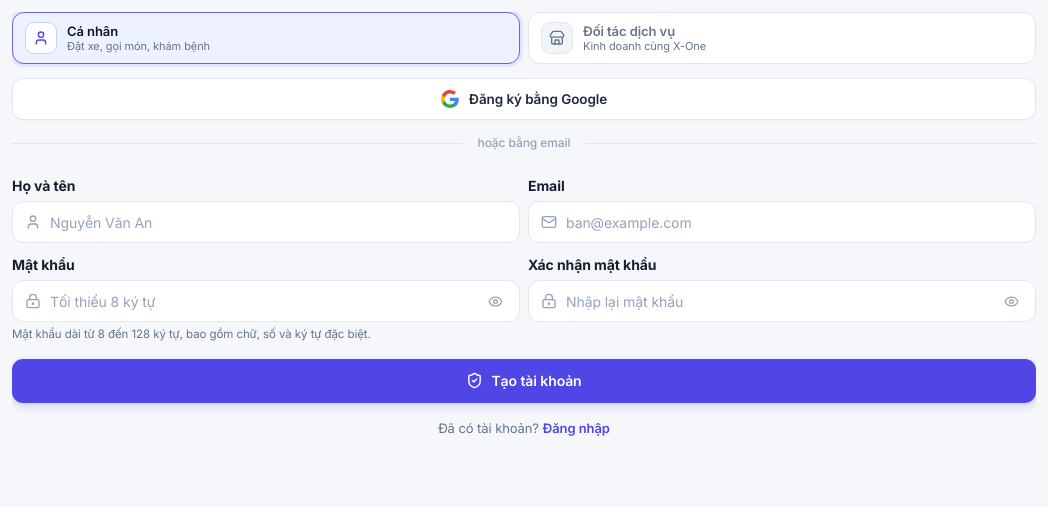
Test case: registration screen › blocks a short password before it reaches the Gateway
Type "Nguyễn An" into the field labelled "Họ và tên" at point(280, 222), box [50,202,509,242]
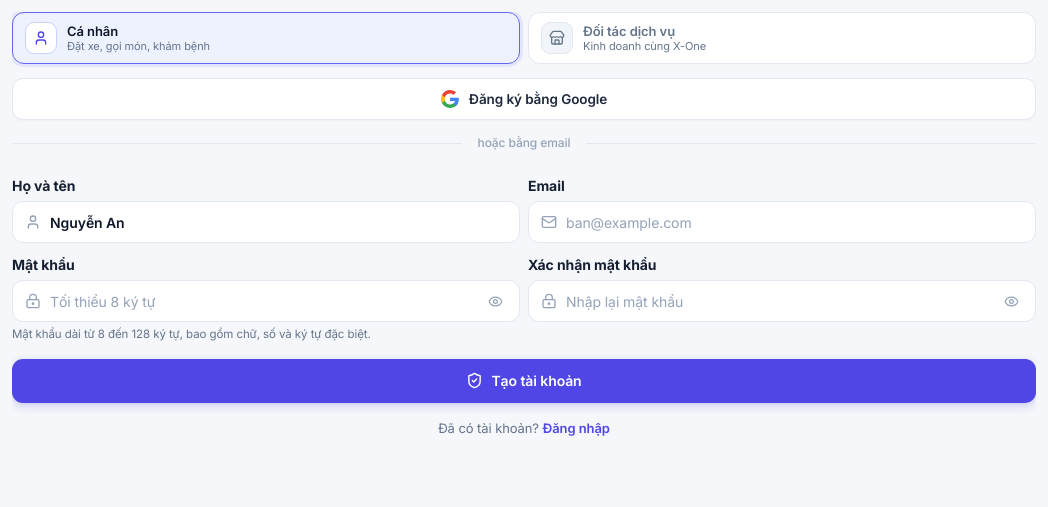
Type "an@example.test" into the field labelled "Email" at point(796, 222), box [566,202,1025,242]
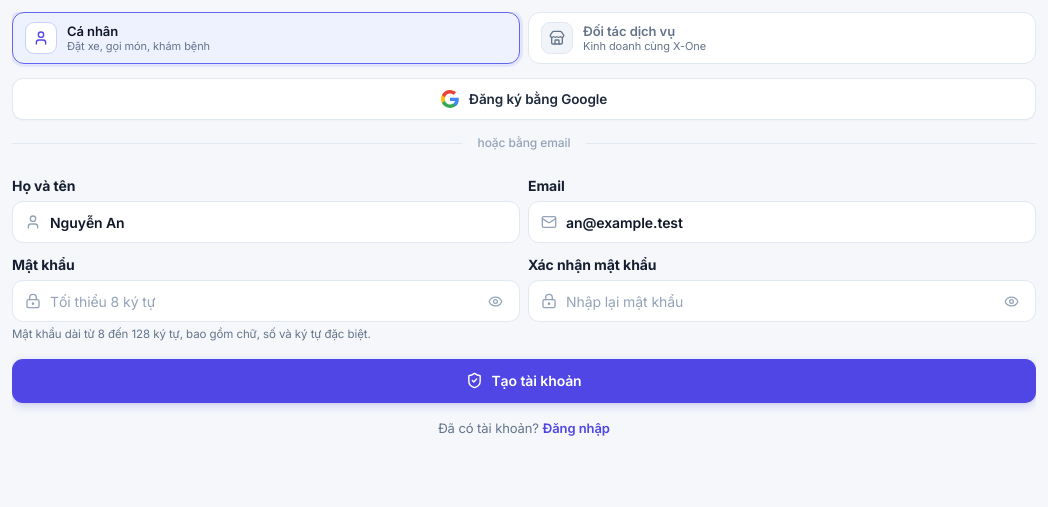
Type "short" into the password field labelled "Mật khẩu" at point(261, 301), box [50,281,472,321]
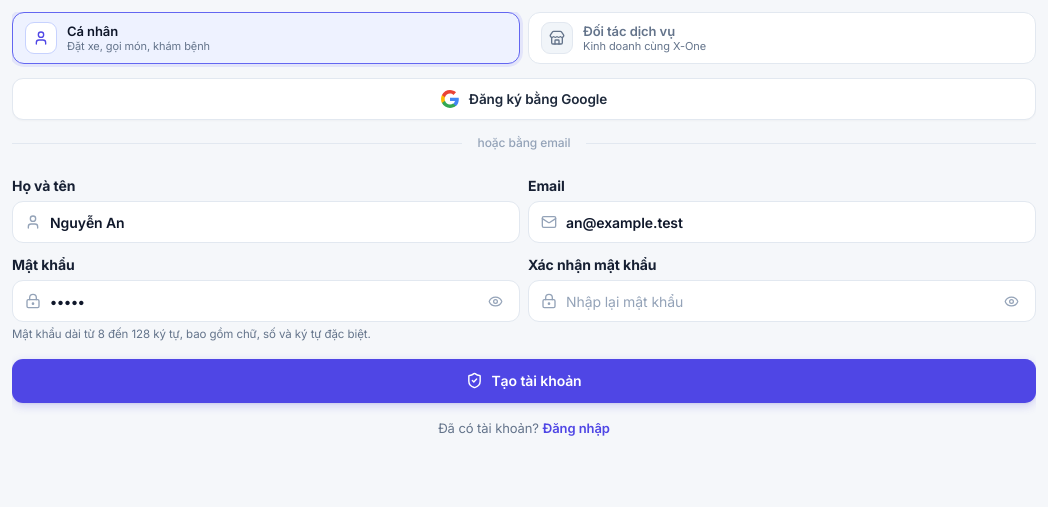
Type "short" into the password field labelled "Xác nhận mật khẩu" at point(777, 301), box [566,281,988,321]
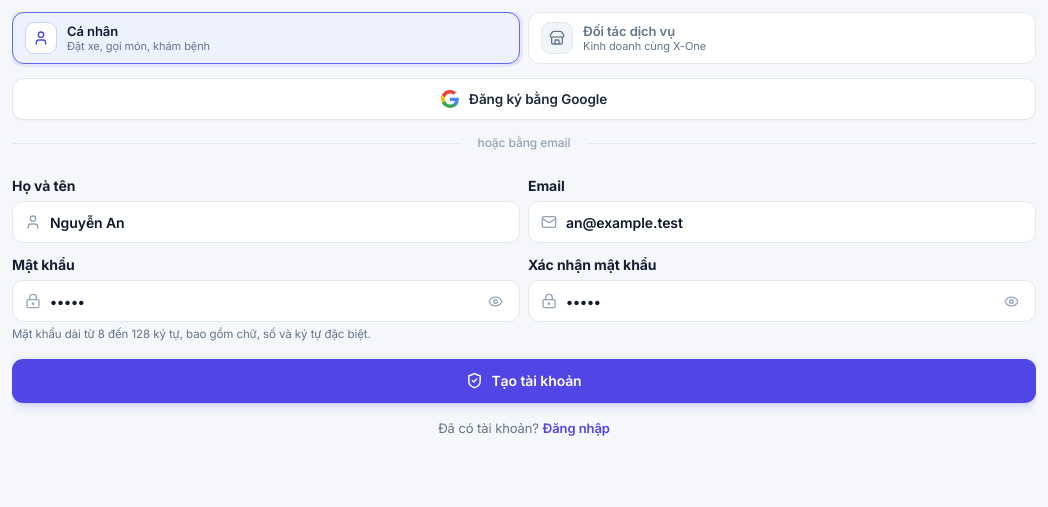
Submit the form named "Tạo tài khoản", box [12,164,1036,402]
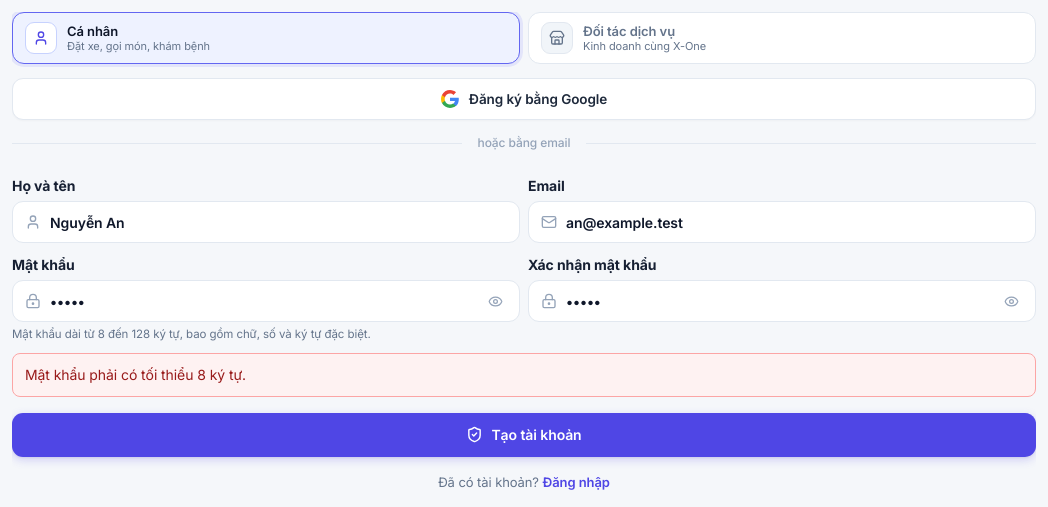
Expected: the message shows "8 ký tự", [25,366,246,382]
